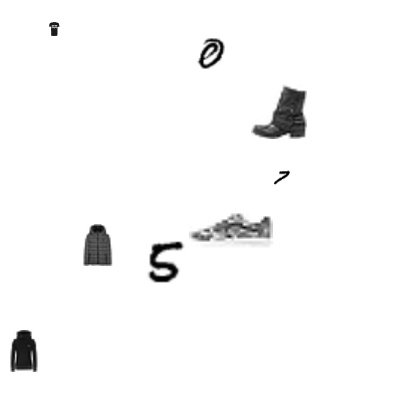0: (190, 31, 232, 73)
5: (134, 234, 190, 290)
7: (271, 165, 293, 187)
Ankle_boot: (251, 83, 307, 139)
Coat: (76, 224, 118, 266)
Pullover: (3, 330, 45, 372)
Sneaker: (189, 187, 273, 271)
T-shirt/top: (47, 22, 61, 36)
